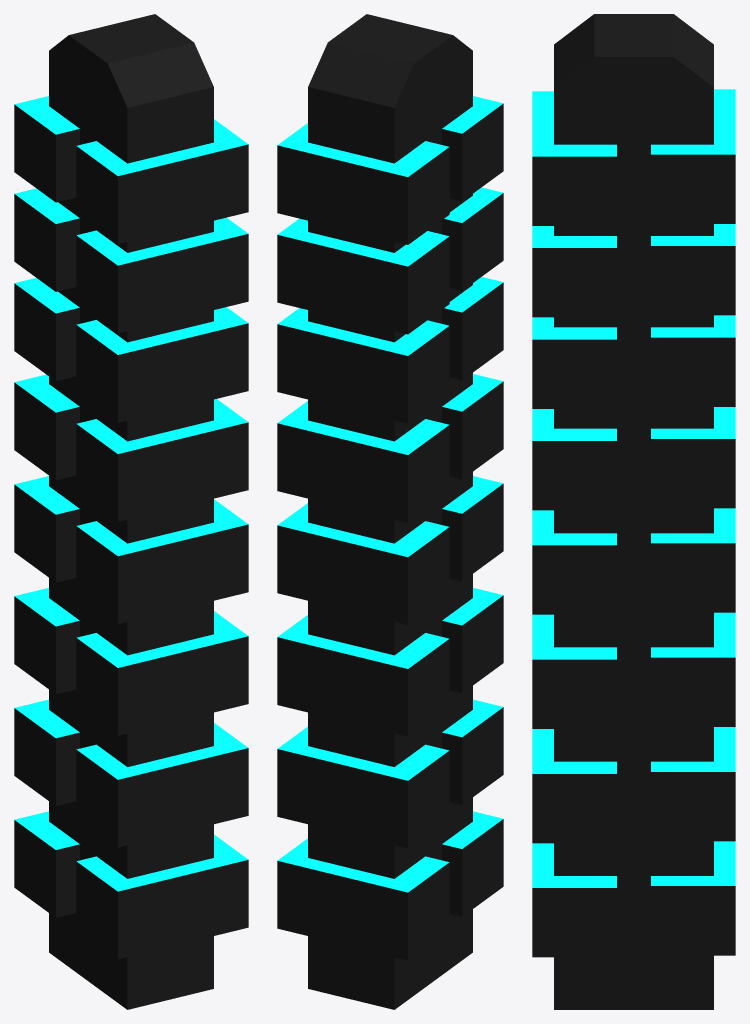
Rendered from Pillar.glb.
3 views of the same model, side by side, from view 1: azimuth 30°, elevation 25°; view 2: azimuth 150°, elevation 25°; view 3: azimuth 270°, elevation 25° (orthographic). The views are drawn at different scales.
Parts seen in each view (by area): view 1: light_wall_1_blue; view 2: light_wall_1_blue; view 3: light_wall_1_blue.
Part boxes in pixels (x1,y1,x2,y2): light_wall_1_blue: (14,14,248,1009); light_wall_1_blue: (277,14,503,1009); light_wall_1_blue: (532,14,735,1009).
Size of the model in its own units: 0.8077 by 5.34 by 1.03.
